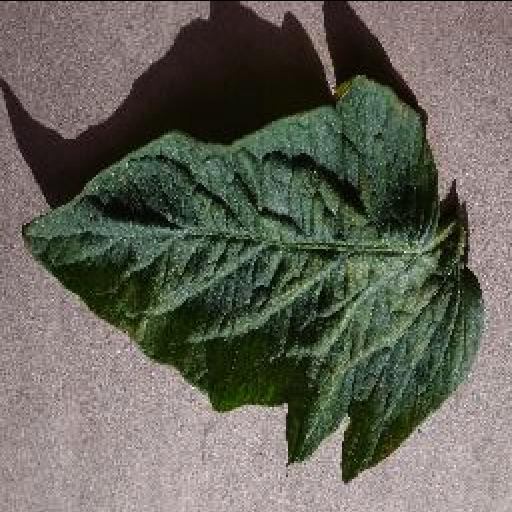disease_tomato: (18, 74, 486, 482)
